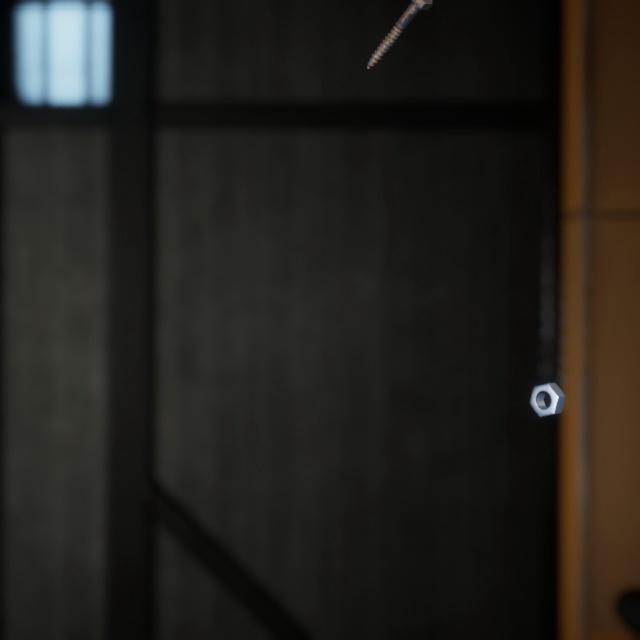bolt: (362, 0, 434, 65)
nut: (525, 358, 570, 402)
